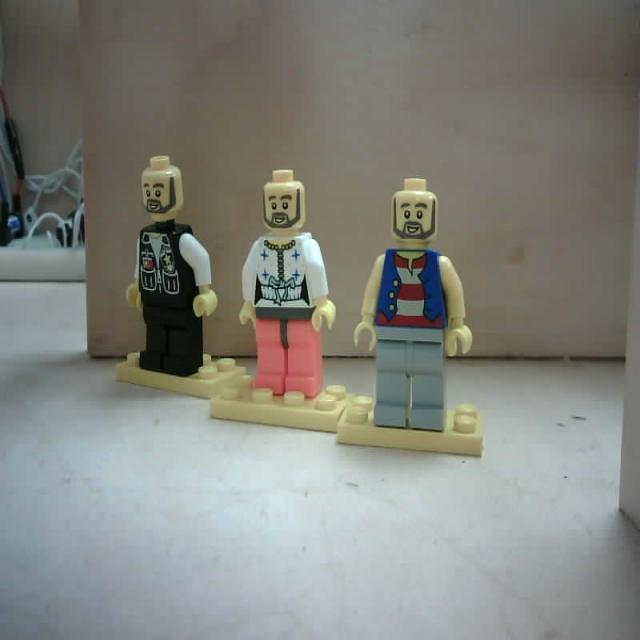Lego-People: (335, 174, 487, 462), (209, 166, 358, 434), (112, 153, 249, 403)
